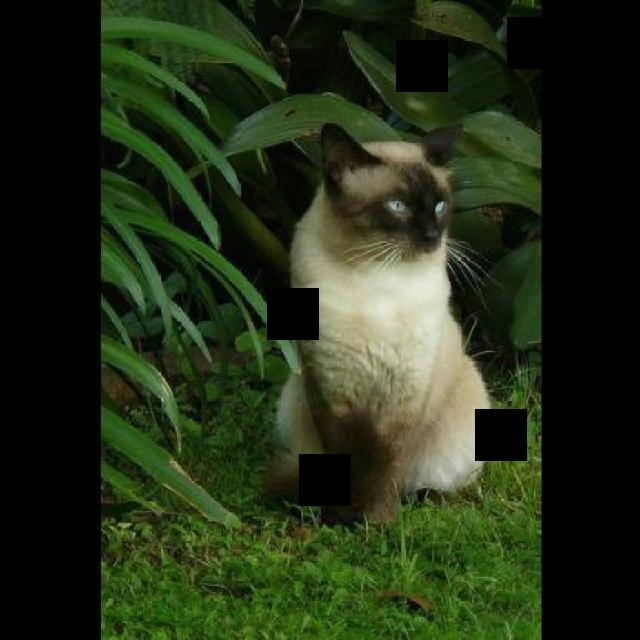unauthorized: (260, 118, 498, 530)
